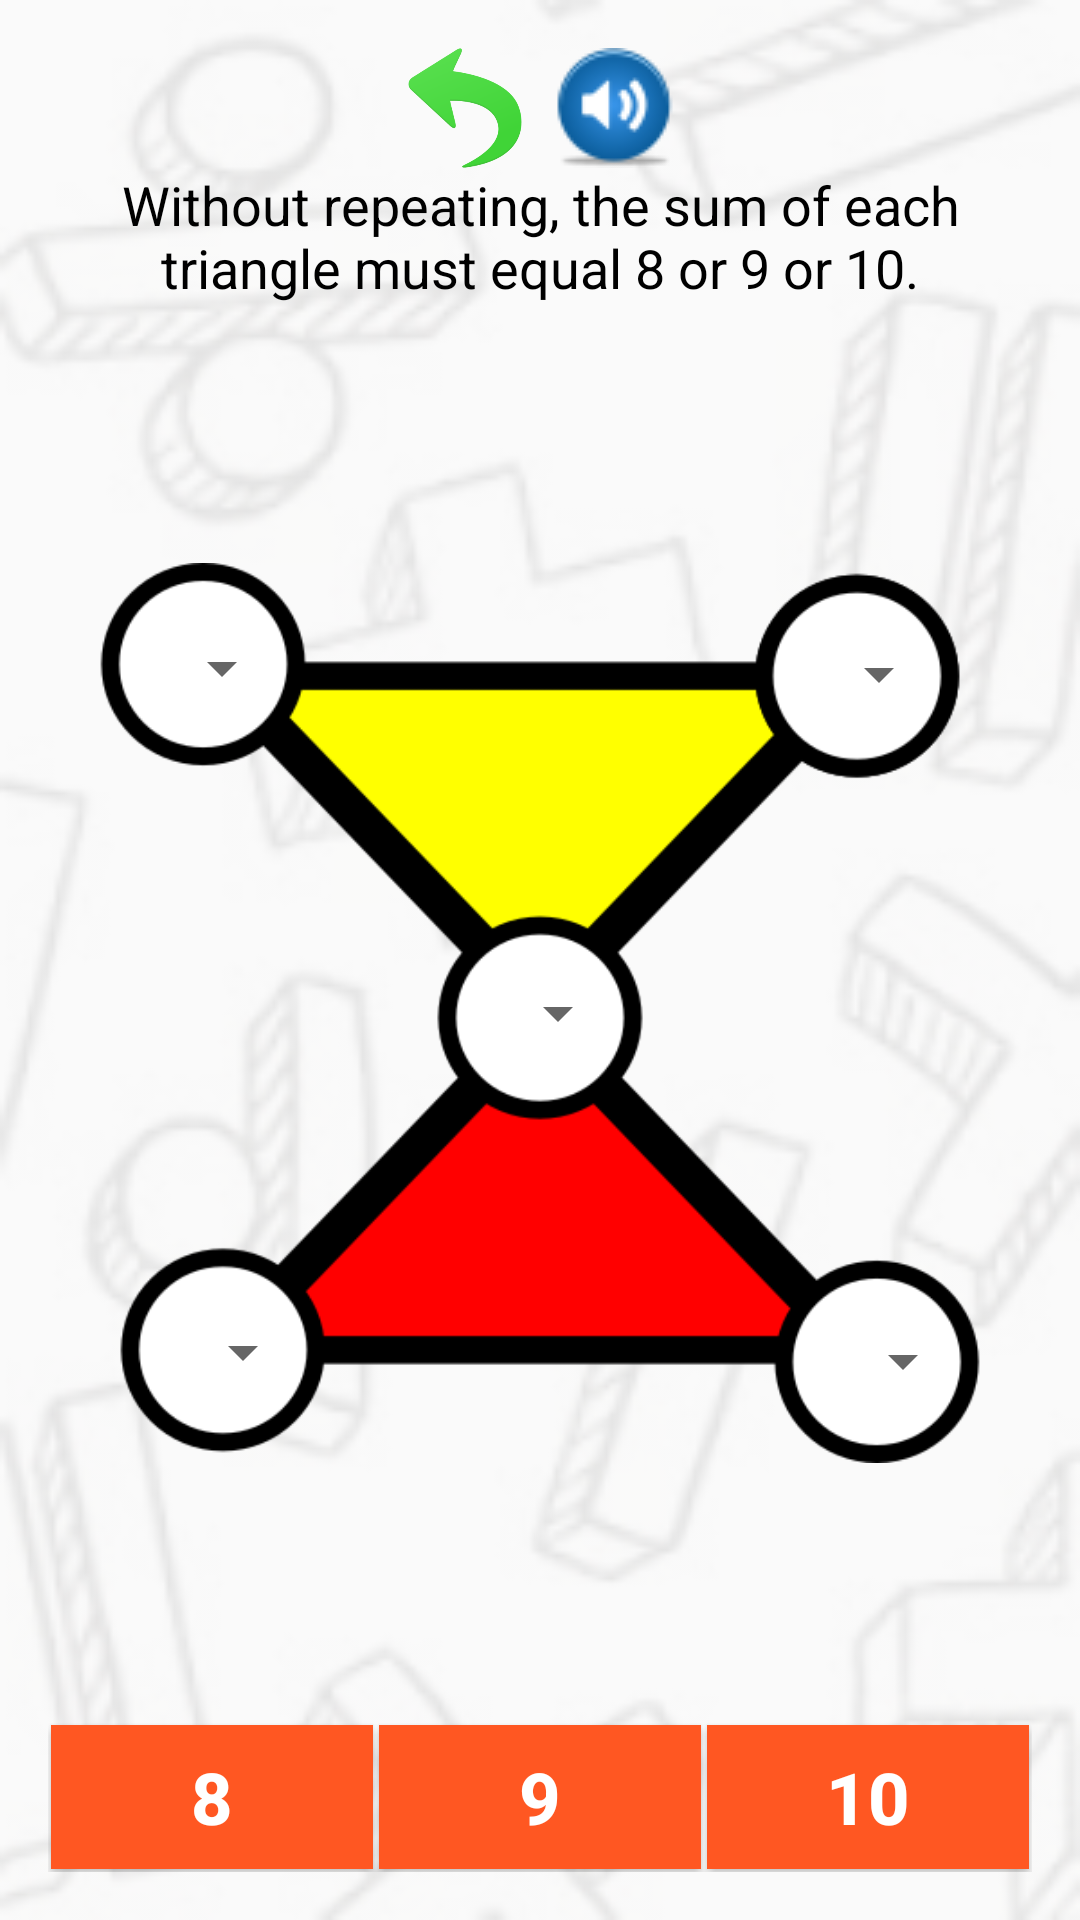

Icons on this 1080 × 1920 Android screen, each with its box as bbox(x1, y1, x2, y2):
som: bbox(557, 48, 672, 166)
voltar: bbox(408, 48, 522, 168)
